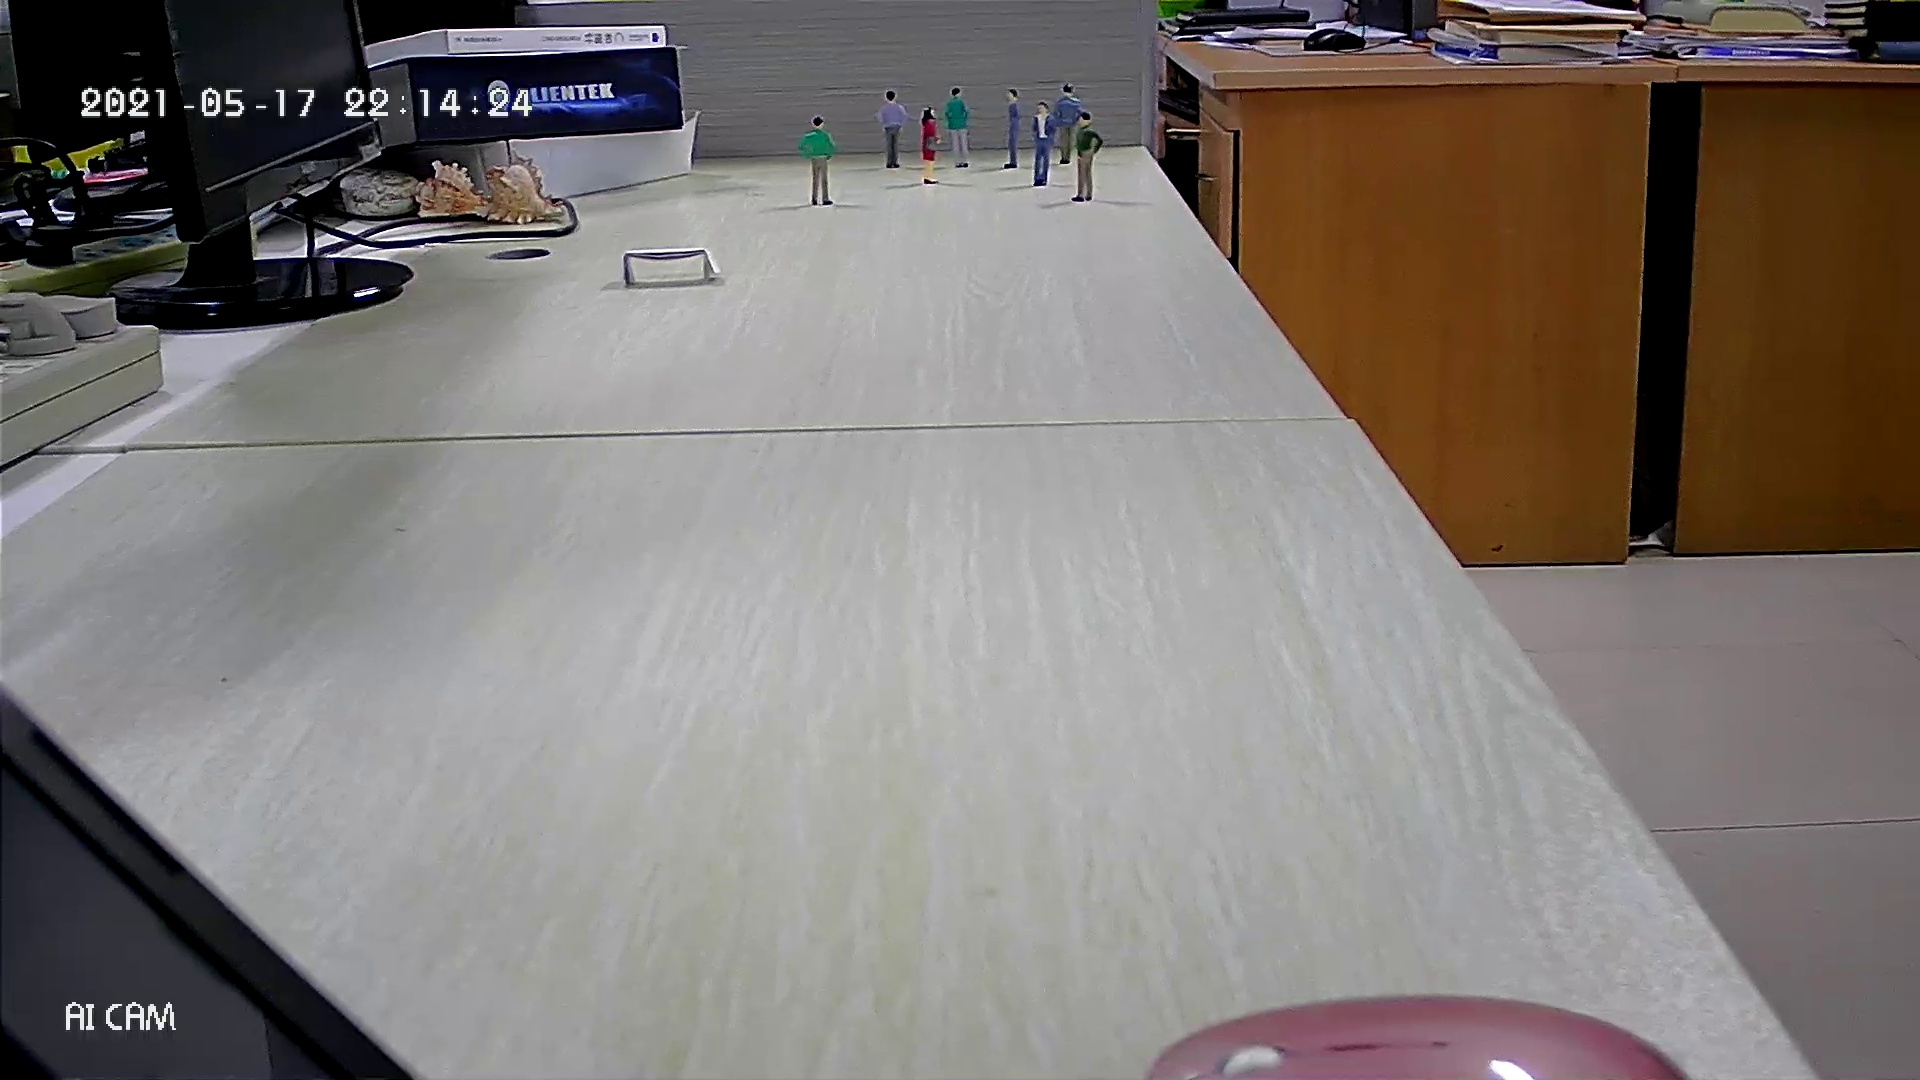person: (798, 114, 838, 207), (1071, 111, 1103, 203), (873, 89, 908, 170), (1054, 82, 1081, 166), (944, 86, 972, 169), (1032, 100, 1057, 188), (918, 105, 942, 185), (1003, 88, 1020, 170)
